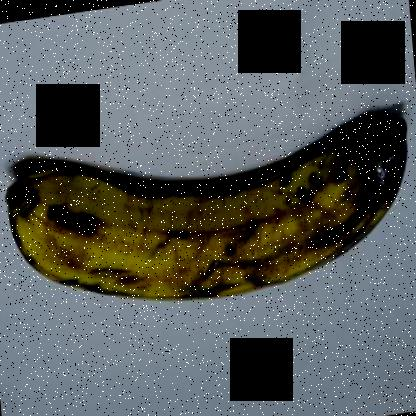overripe: (0, 83, 415, 347)
rotten: (302, 122, 407, 252)
